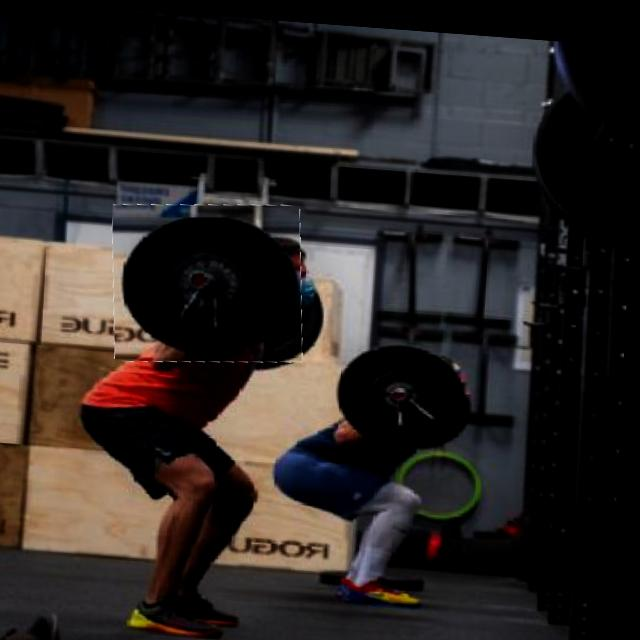barbell: (112, 194, 311, 367)
